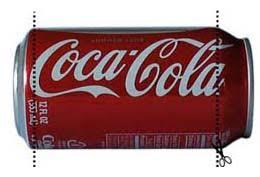Aluminum can: (11, 18, 260, 163)
